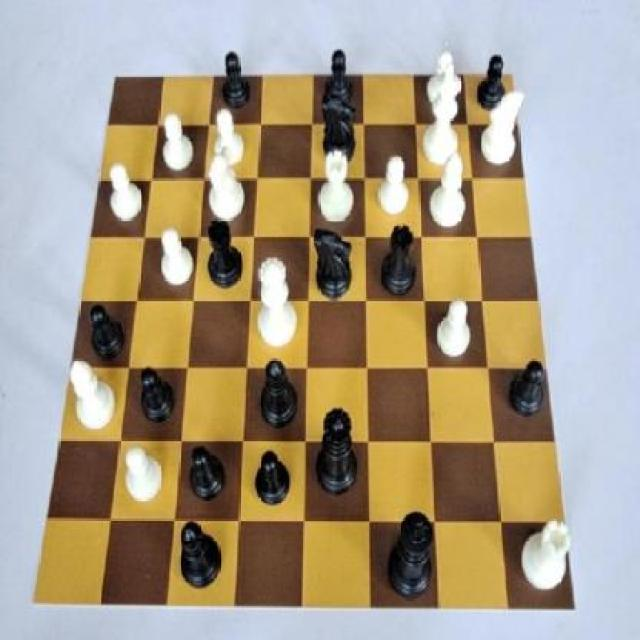bishop: (168, 512, 227, 597), (257, 351, 306, 438)
black-bishop: (380, 497, 443, 605)
black-king: (308, 220, 360, 305), (312, 84, 365, 166)
black-knight: (249, 441, 297, 517), (132, 358, 181, 432), (505, 350, 550, 426), (183, 437, 229, 508), (212, 44, 256, 116), (318, 42, 362, 112), (86, 294, 131, 361), (474, 46, 514, 116)
black-pawn: (312, 394, 364, 503)
black-queen: (377, 210, 423, 306), (202, 211, 248, 293)
black-rook: (64, 352, 124, 436), (423, 145, 475, 240)
white-bishop: (420, 57, 466, 170)
white-king: (477, 78, 529, 175), (204, 147, 250, 226)
white-knight: (117, 438, 170, 509), (434, 291, 478, 366), (153, 222, 200, 292), (103, 155, 148, 228), (158, 108, 198, 178), (374, 149, 411, 223), (422, 46, 461, 114), (210, 105, 248, 170)
white-pawn: (252, 251, 304, 357)
white-queen: (518, 505, 574, 599), (316, 141, 360, 227)
